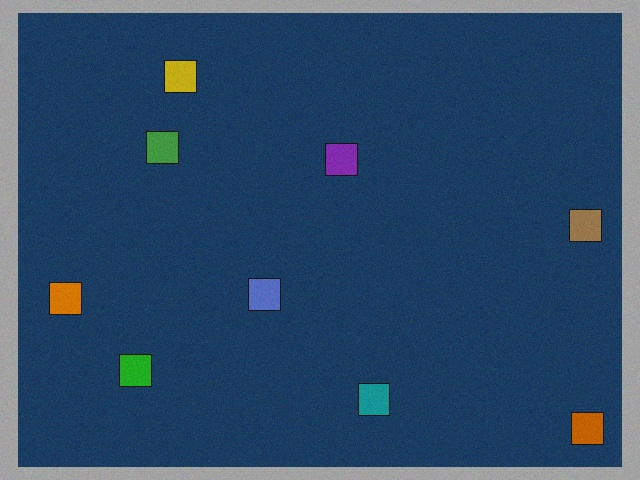block: (558, 403, 604, 445), (164, 60, 203, 100), (120, 349, 161, 387), (49, 281, 94, 315), (556, 209, 601, 241), (147, 131, 186, 167), (356, 376, 390, 416), (248, 276, 282, 310), (325, 143, 357, 179)
